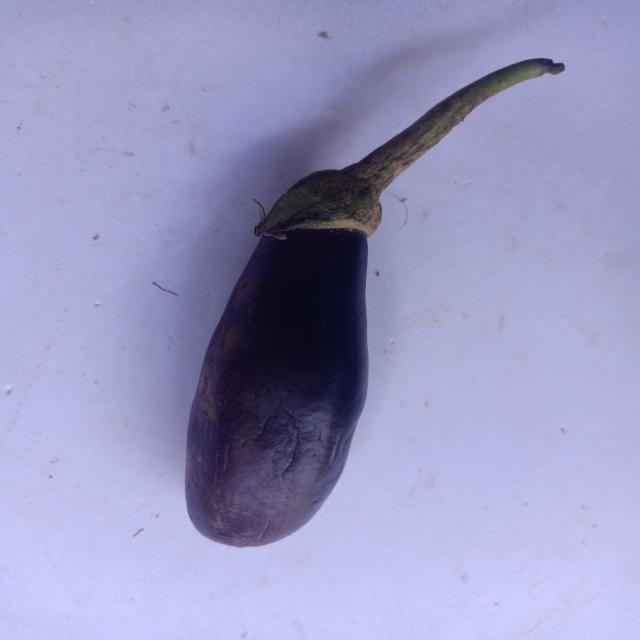Brinjal: (132, 28, 590, 560)
